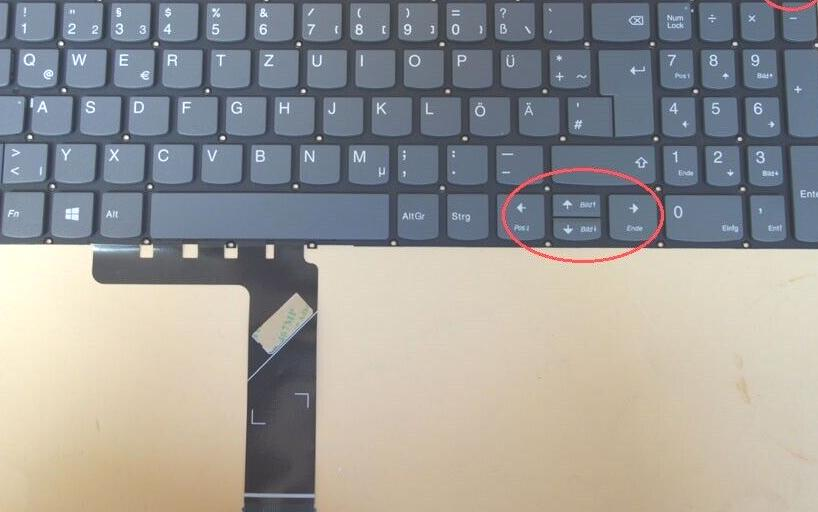0: (443, 1, 486, 42)
1: (12, 1, 54, 41)
2: (60, 1, 103, 41)
3: (107, 1, 151, 42)
4: (155, 1, 197, 41)
5: (203, 1, 245, 41)
6: (251, 1, 293, 41)
7: (299, 1, 341, 41)
8: (346, 1, 389, 42)
9: (394, 1, 437, 42)
a: (28, 93, 71, 134)
accent: (541, 1, 582, 41)
ae: (515, 94, 558, 136)
alt-left: (97, 189, 141, 237)
altgr-right: (393, 190, 438, 239)
b: (247, 141, 290, 183)
c: (149, 141, 193, 183)
caret: (1, 1, 21, 40)
comma: (395, 142, 438, 184)
d: (126, 93, 168, 135)
del: (590, 1, 651, 41)
e: (111, 46, 154, 87)
enter: (597, 47, 653, 137)
f: (175, 94, 216, 134)
g: (223, 93, 265, 135)
h: (271, 93, 313, 134)
hash: (565, 93, 610, 135)
i: (353, 47, 394, 87)
j: (320, 94, 362, 135)
k: (369, 94, 411, 135)
keyboard: (1, 1, 818, 253)
l: (417, 94, 459, 136)
less: (1, 139, 46, 182)
m: (345, 142, 389, 184)
minus: (492, 142, 542, 183)
n: (296, 142, 339, 184)
o: (400, 47, 442, 88)
oe: (466, 93, 509, 136)
p: (449, 47, 492, 88)
plus: (547, 46, 591, 88)
point: (444, 142, 487, 184)
q: (15, 46, 58, 87)
r: (159, 47, 202, 87)
s: (77, 93, 120, 134)
shift-left: (1, 140, 23, 182)
shift-lock: (1, 92, 33, 135)
shift-right: (548, 141, 657, 183)
space: (146, 189, 390, 239)
ss: (491, 1, 534, 41)
strg-left: (1, 187, 23, 237)
strg-right: (444, 190, 488, 240)
t: (208, 47, 249, 87)
tab: (1, 45, 25, 87)
u: (304, 46, 346, 88)
ue: (498, 46, 540, 88)
v: (199, 141, 242, 183)
w: (63, 45, 105, 87)
x: (101, 141, 143, 183)
y: (52, 141, 95, 183)
z: (256, 47, 297, 88)
